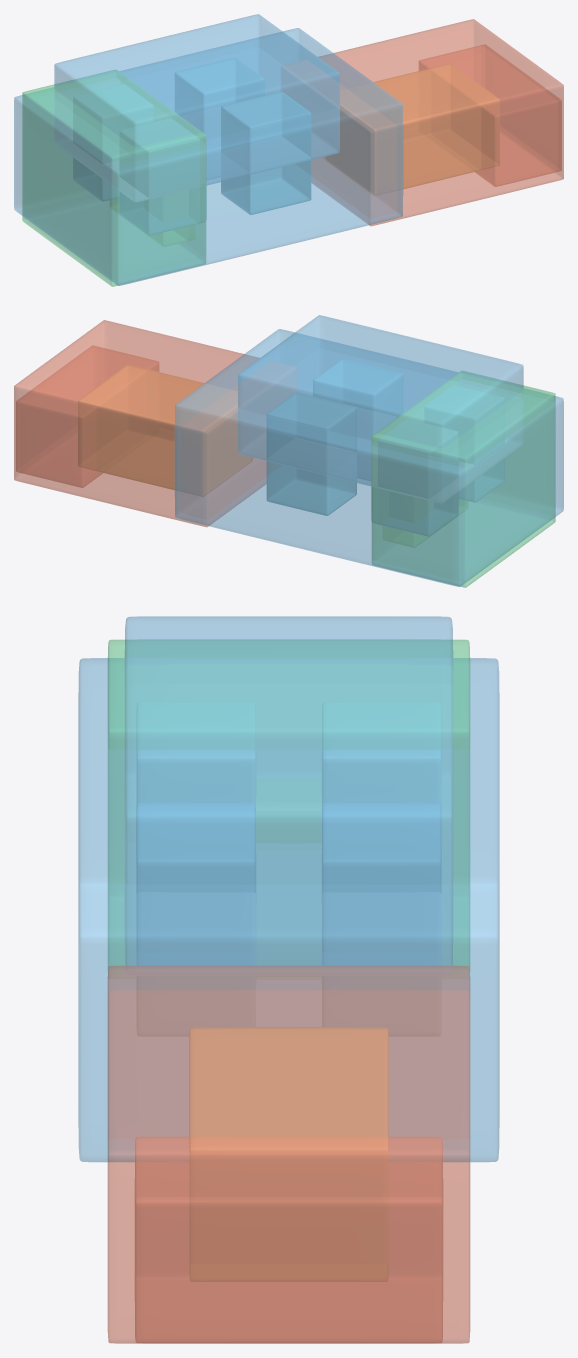
Rendered from envelopes.glb.
3 renders of one model, top to bottom at view 1: azimuth 30°, elevation 25°; view 2: azimuth 150°, elevation 25°; view 3: azimuth 270°, elevation 25°, orthographic. The views are drawn at different scales.
Visible parts, largest first — view 1: CABIN_ENVELOPE, ENGINE_BAY, CARGO_ENVELOPE, OCCUPANT_SPACE_-0.35569599999999996, ENGINE_BAY_CORE, OCCUPANT_SPACE_0.35569599999999996; view 2: CABIN_ENVELOPE, ENGINE_BAY, CARGO_ENVELOPE, OCCUPANT_SPACE_0.35569599999999996, ENGINE_BAY_CORE, OCCUPANT_SPACE_-0.35569599999999996; view 3: CABIN_ENVELOPE, ENGINE_BAY, CARGO_ENVELOPE, ENGINE_BAY_CORE, OCCUPANT_SPACE_0.35569599999999996, OCCUPANT_SPACE_-0.35569599999999996.
Boxes of the visible parts, left/top/right/bottom form: CABIN_ENVELOPE: left=14, top=14, right=403, bottom=285; ENGINE_BAY: left=311, top=19, right=563, bottom=226; CARGO_ENVELOPE: left=22, top=70, right=206, bottom=286; OCCUPANT_SPACE_-0.35569599999999996: left=119, top=92, right=311, bottom=235; ENGINE_BAY_CORE: left=325, top=63, right=499, bottom=195; OCCUPANT_SPACE_0.35569599999999996: left=73, top=58, right=264, bottom=201; CABIN_ENVELOPE: left=174, top=315, right=563, bottom=586; ENGINE_BAY: left=14, top=320, right=266, bottom=527; CARGO_ENVELOPE: left=371, top=371, right=555, bottom=587; OCCUPANT_SPACE_0.35569599999999996: left=266, top=393, right=458, bottom=536; ENGINE_BAY_CORE: left=78, top=364, right=252, bottom=496; OCCUPANT_SPACE_-0.35569599999999996: left=313, top=359, right=504, bottom=502; CABIN_ENVELOPE: left=78, top=616, right=499, bottom=1162; ENGINE_BAY: left=107, top=966, right=470, bottom=1343; CARGO_ENVELOPE: left=107, top=639, right=470, bottom=970; ENGINE_BAY_CORE: left=189, top=1027, right=388, bottom=1281; OCCUPANT_SPACE_0.35569599999999996: left=322, top=702, right=441, bottom=964; OCCUPANT_SPACE_-0.35569599999999996: left=136, top=702, right=255, bottom=964.
Size of the model in its own units: 4.06 by 1.34 by 1.62.
